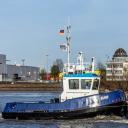tugboat: (2, 57, 128, 123)
